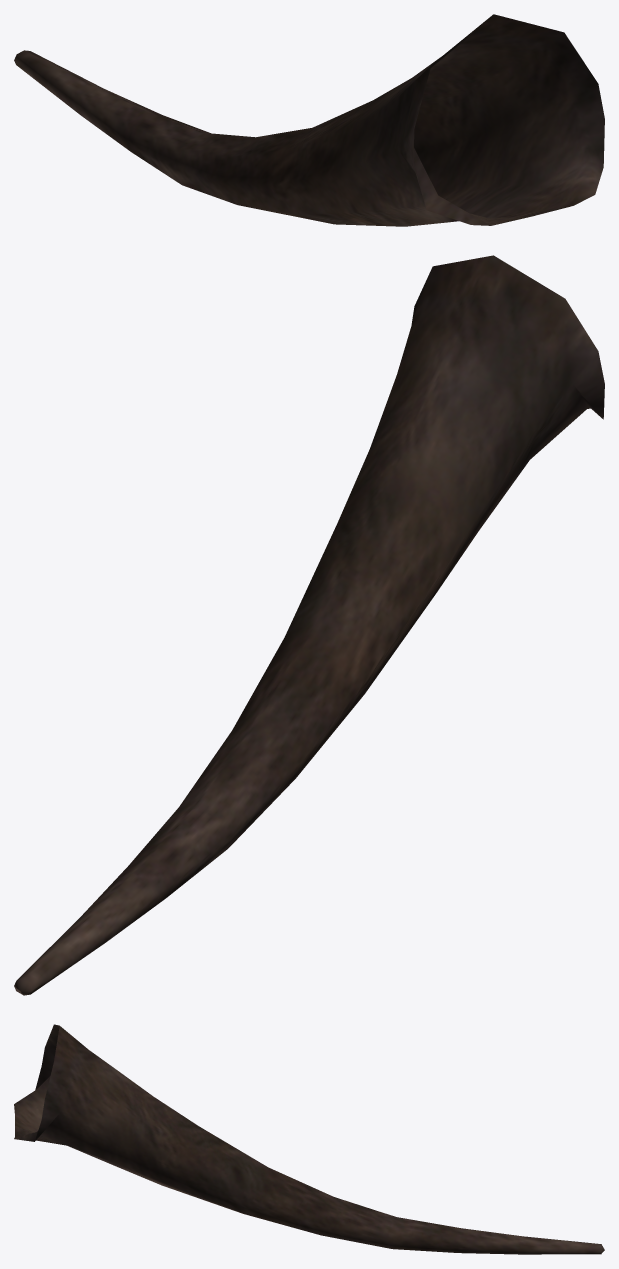
File: nutriacola.obj
The picture shows the model from 3 angles, top to bottom: view 1: azimuth 30°, elevation 25°; view 2: azimuth 150°, elevation 25°; view 3: azimuth 270°, elevation 25°; orthographic projection. The views are drawn at different scales.
Parts seen in each view (by area): view 1: body_Mat.1_0.006_Mat.1; view 2: body_Mat.1_0.006_Mat.1; view 3: body_Mat.1_0.006_Mat.1.
Boxes of the visible parts, x1,y1,x2,y2 form: body_Mat.1_0.006_Mat.1: (14, 14, 604, 226); body_Mat.1_0.006_Mat.1: (14, 255, 604, 995); body_Mat.1_0.006_Mat.1: (14, 1024, 604, 1254).
Size of the model in its own units: 15.03 by 29.78 by 69.68.
Materials: 1 (1 with a texture image).
